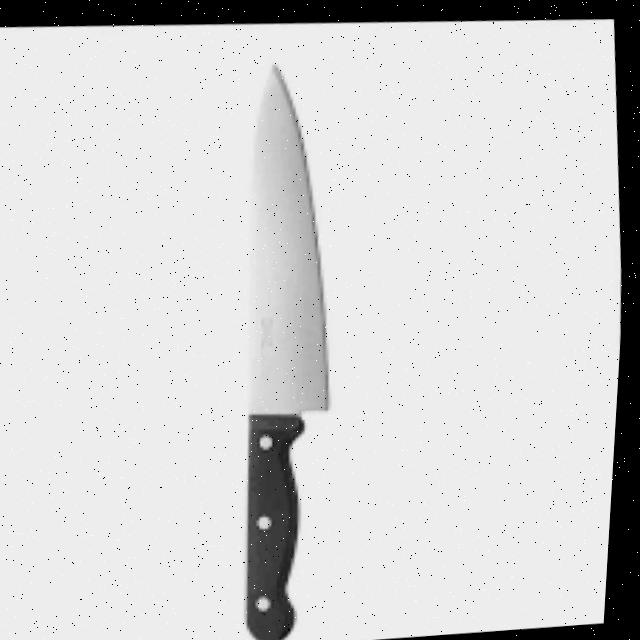knife: (201, 57, 373, 640)
